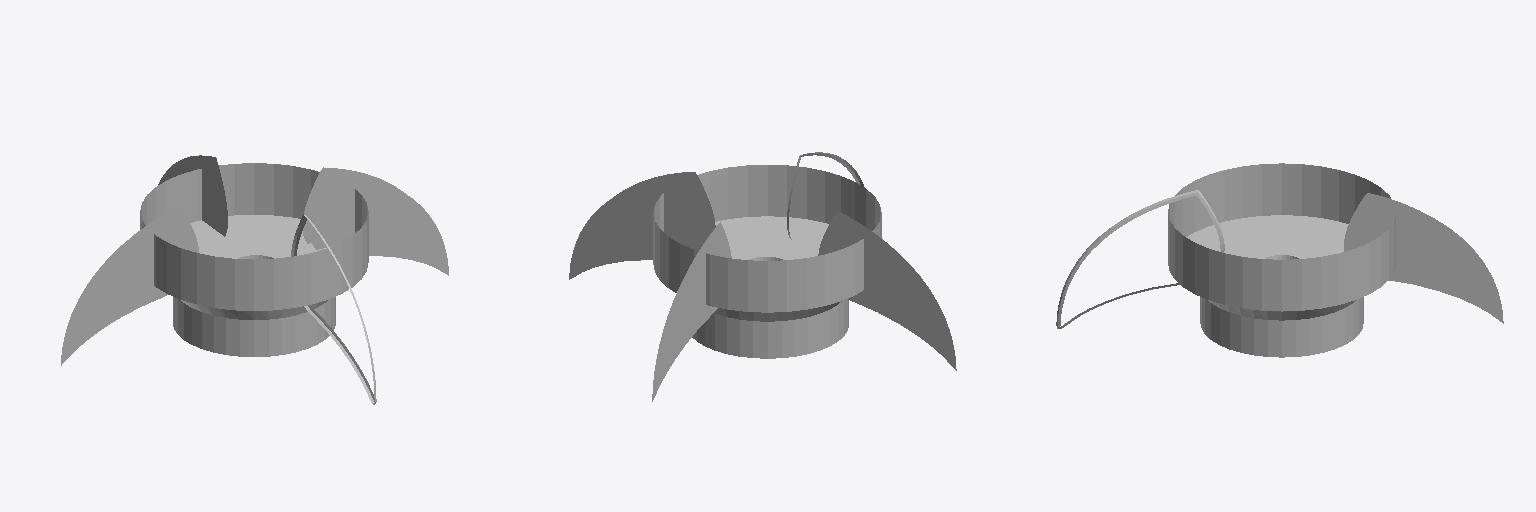
The model's file is fins01.obj.
3 views of the same model, side by side, from view 1: azimuth 30°, elevation 25°; view 2: azimuth 150°, elevation 25°; view 3: azimuth 270°, elevation 25° (orthographic).
Parts seen in each view (by area): view 1: CUPIC_ROCKETSHIP.025, CUPIC_ROCKETSHIP.038, CUPIC_ROCKETSHIP.048, CUPIC_ROCKETSHIP.033, CUPIC_ROCKETSHIP.040, CUPIC_ROCKETSHIP.036; view 2: CUPIC_ROCKETSHIP.025, CUPIC_ROCKETSHIP.036, CUPIC_ROCKETSHIP.048, CUPIC_ROCKETSHIP.033, CUPIC_ROCKETSHIP.038; view 3: CUPIC_ROCKETSHIP.025, CUPIC_ROCKETSHIP.033, CUPIC_ROCKETSHIP.040.
Boxes of the visible parts, box(x1,y1,x2,y2) form: CUPIC_ROCKETSHIP.025: box(140, 163, 368, 356); CUPIC_ROCKETSHIP.038: box(311, 174, 448, 275); CUPIC_ROCKETSHIP.048: box(61, 206, 198, 365); CUPIC_ROCKETSHIP.033: box(158, 155, 227, 236); CUPIC_ROCKETSHIP.040: box(291, 214, 376, 404); CUPIC_ROCKETSHIP.036: box(303, 167, 405, 243); CUPIC_ROCKETSHIP.025: box(653, 165, 881, 358); CUPIC_ROCKETSHIP.036: box(569, 178, 707, 279); CUPIC_ROCKETSHIP.048: box(818, 211, 956, 370); CUPIC_ROCKETSHIP.033: box(652, 222, 731, 401); CUPIC_ROCKETSHIP.038: box(614, 172, 715, 236); CUPIC_ROCKETSHIP.025: box(1168, 163, 1395, 357); CUPIC_ROCKETSHIP.033: box(1344, 193, 1503, 323); CUPIC_ROCKETSHIP.040: box(1056, 190, 1224, 328).
Bounding box in the file's own units: 21.4 × 7.42 × 21.6.